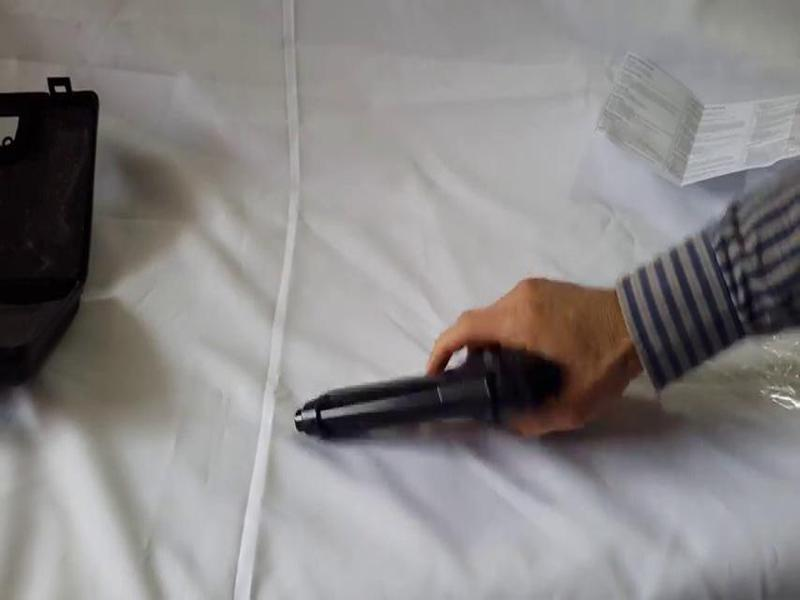Pistola: (261, 359, 565, 426)
